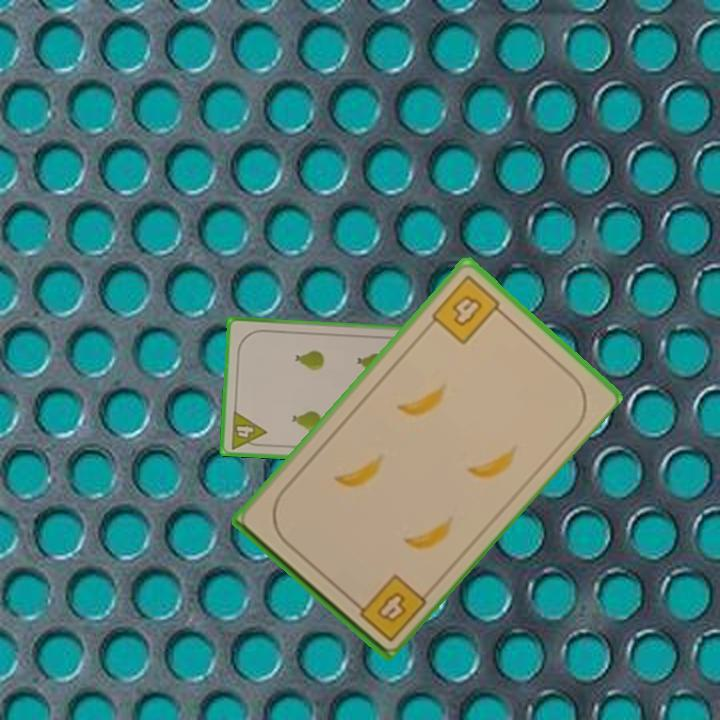4b: (427, 271, 509, 348), (346, 570, 429, 645)
4p: (227, 407, 269, 452)
